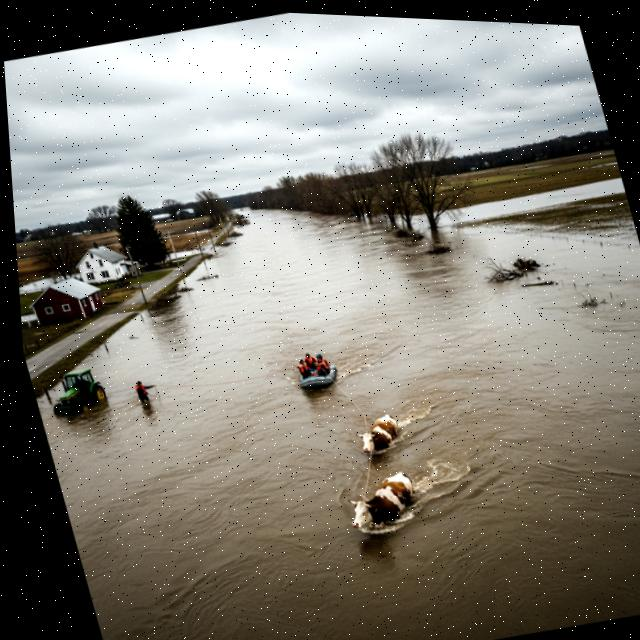cow: (329, 460, 435, 543), (344, 404, 419, 465)
rescuer: (128, 374, 166, 410), (293, 355, 315, 383), (313, 354, 333, 379), (302, 350, 320, 377)
